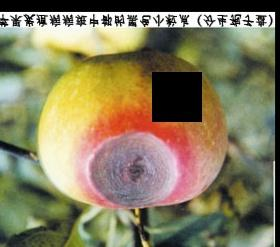rotten apple: (37, 51, 229, 210)
